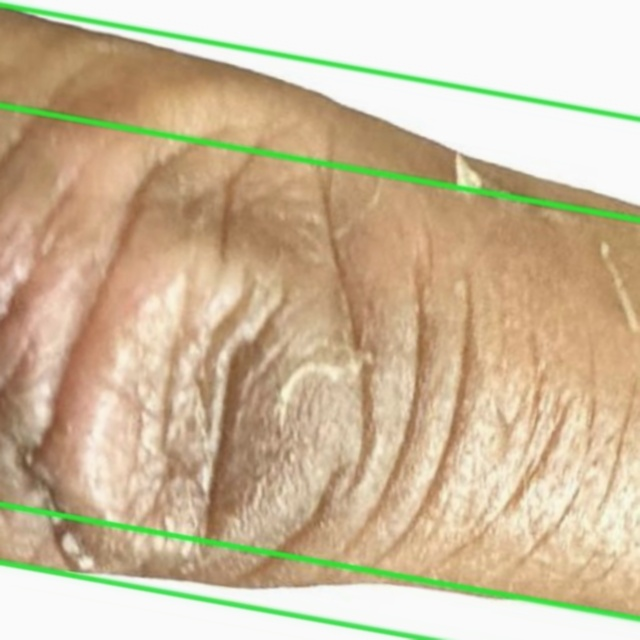Contact Dermatitis: (0, 4, 639, 639)
